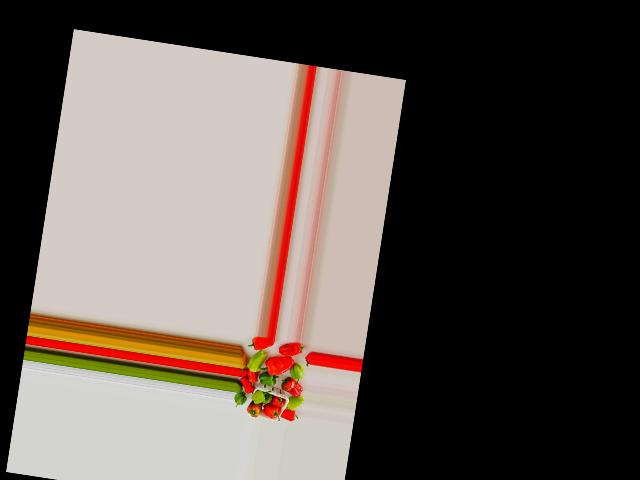bell_pepper: (246, 334, 271, 353)
